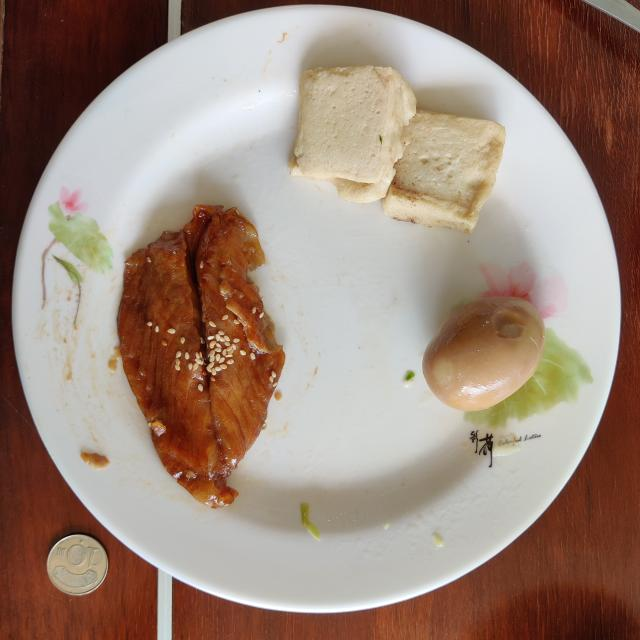Kabayaki sea bream fillet: (118, 205, 285, 508)
coin: (48, 534, 108, 595)
creamy tofu -without sauce-: (289, 65, 505, 234)
soy egg: (422, 296, 545, 411)
